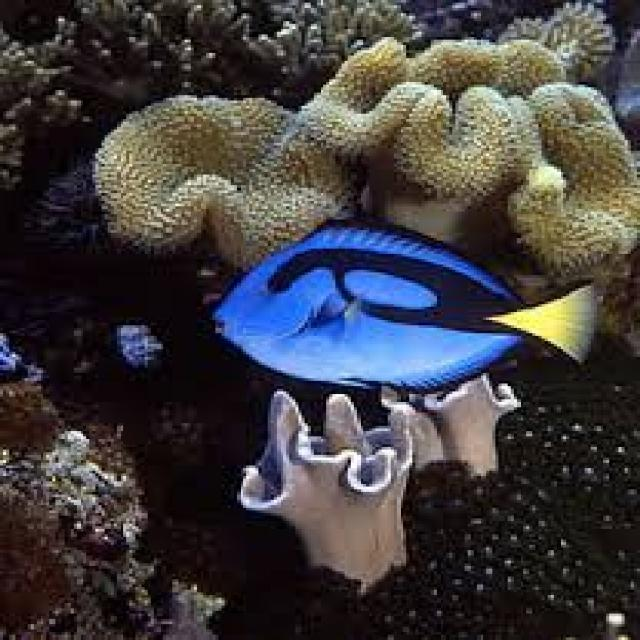BlueTang: (213, 217, 595, 394)
